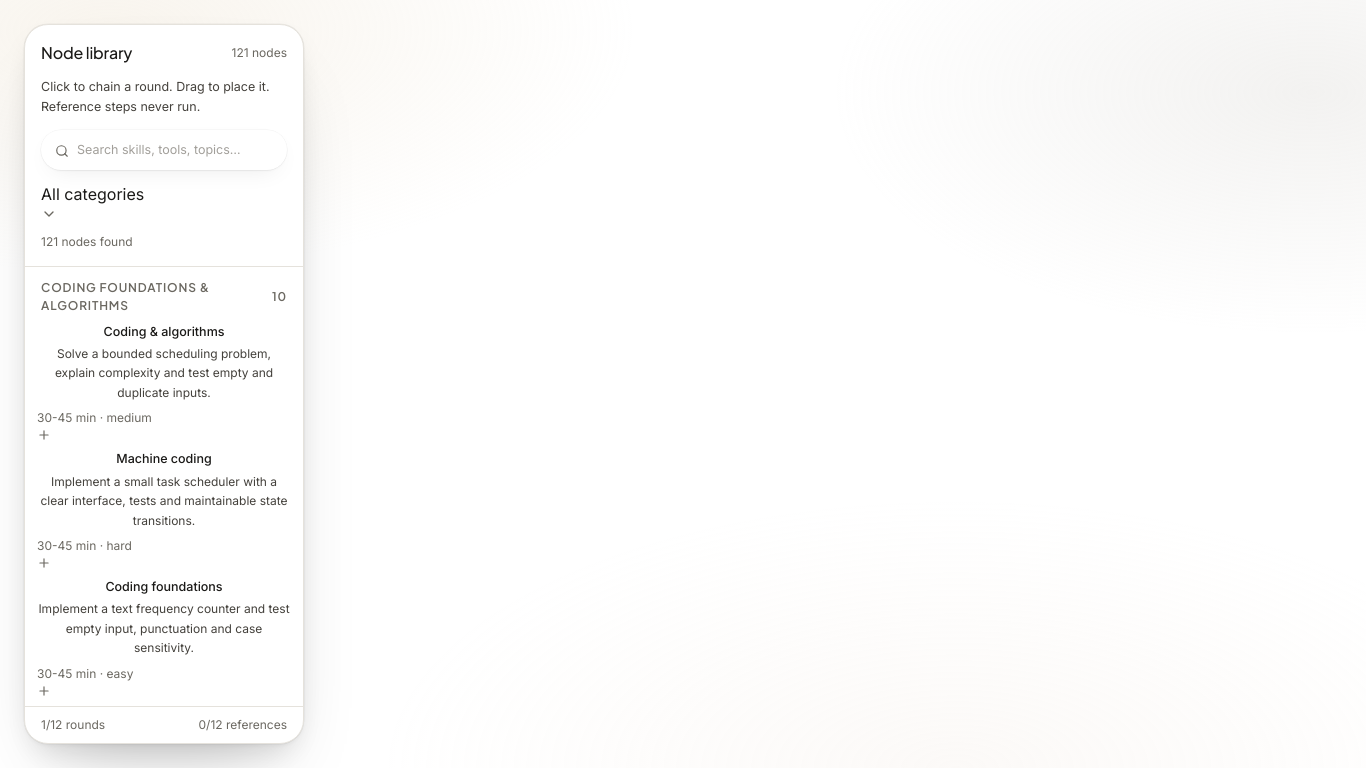
Test: NodePalette › filters with the themed category select and resets the no-match state
The width and height of the screenshot is (1366, 768).
Click the dropdown named "Node category" at (93, 202), box [41,182,144,222]
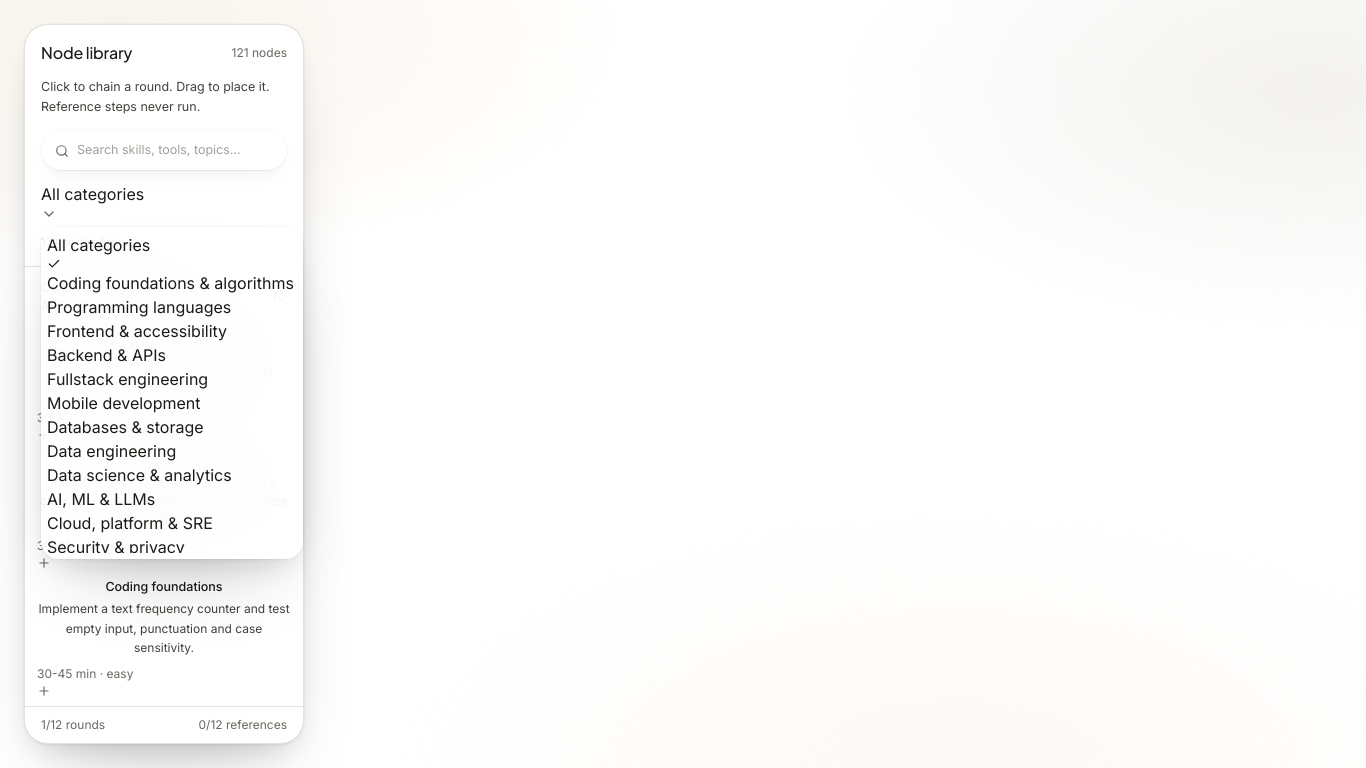
Click the option "Coding foundations & algorithms" at (172, 283), box [47,271,296,295]
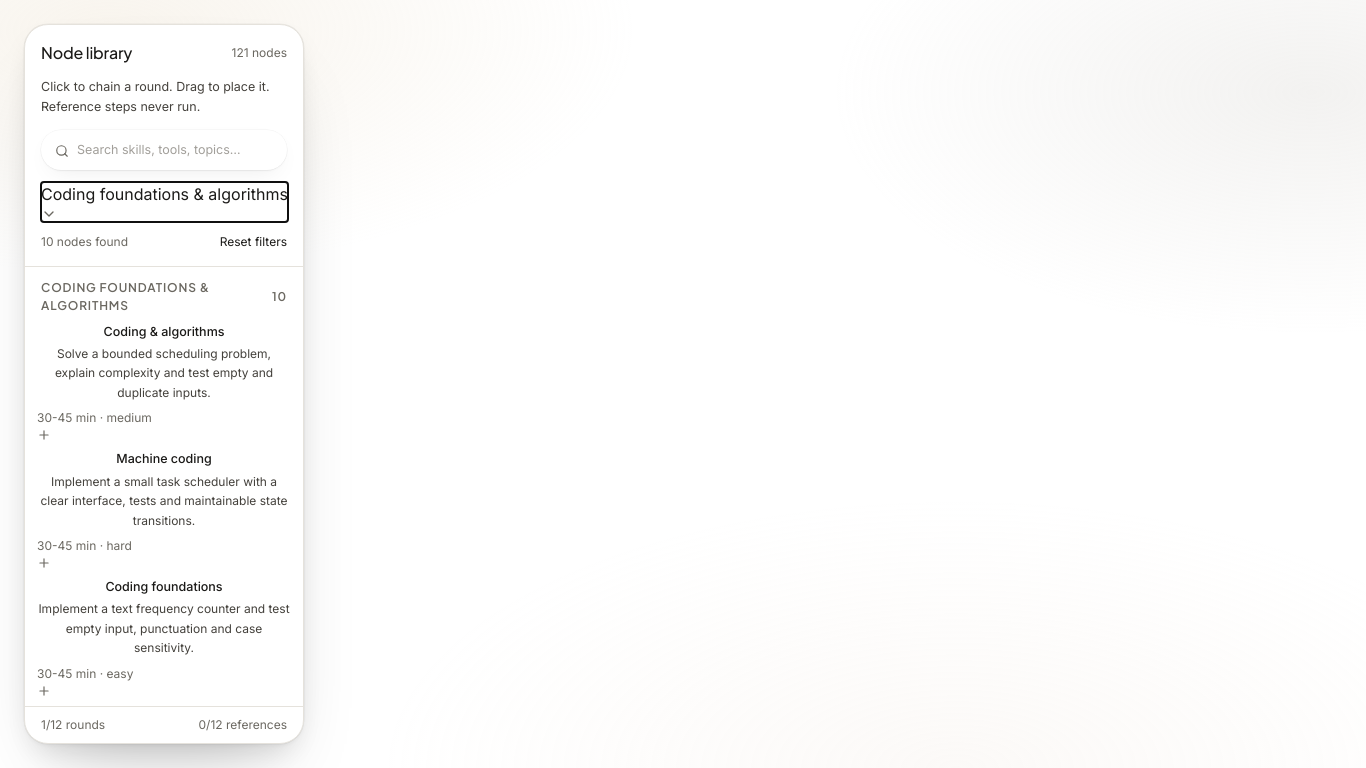
Type "no-node-with-this-name-xyz" into the field named "Search nodes" at (164, 150), box [41,130,287,170]
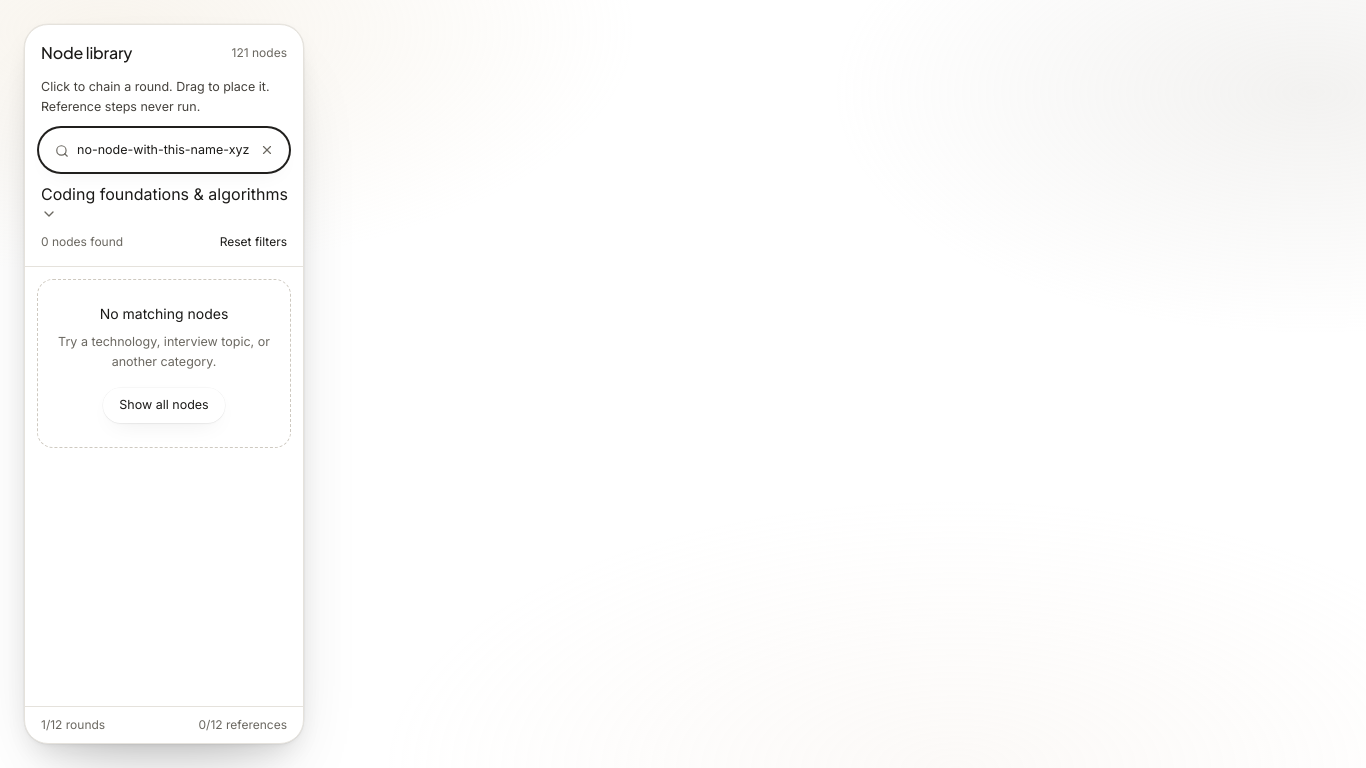
Result: the text "No matching nodes" is shown at [100,305,228,322]
Result: the message reads "0 nodes found" at [41,234,123,250]
Click the button "Show all nodes" at (164, 406), box [103,388,225,423]
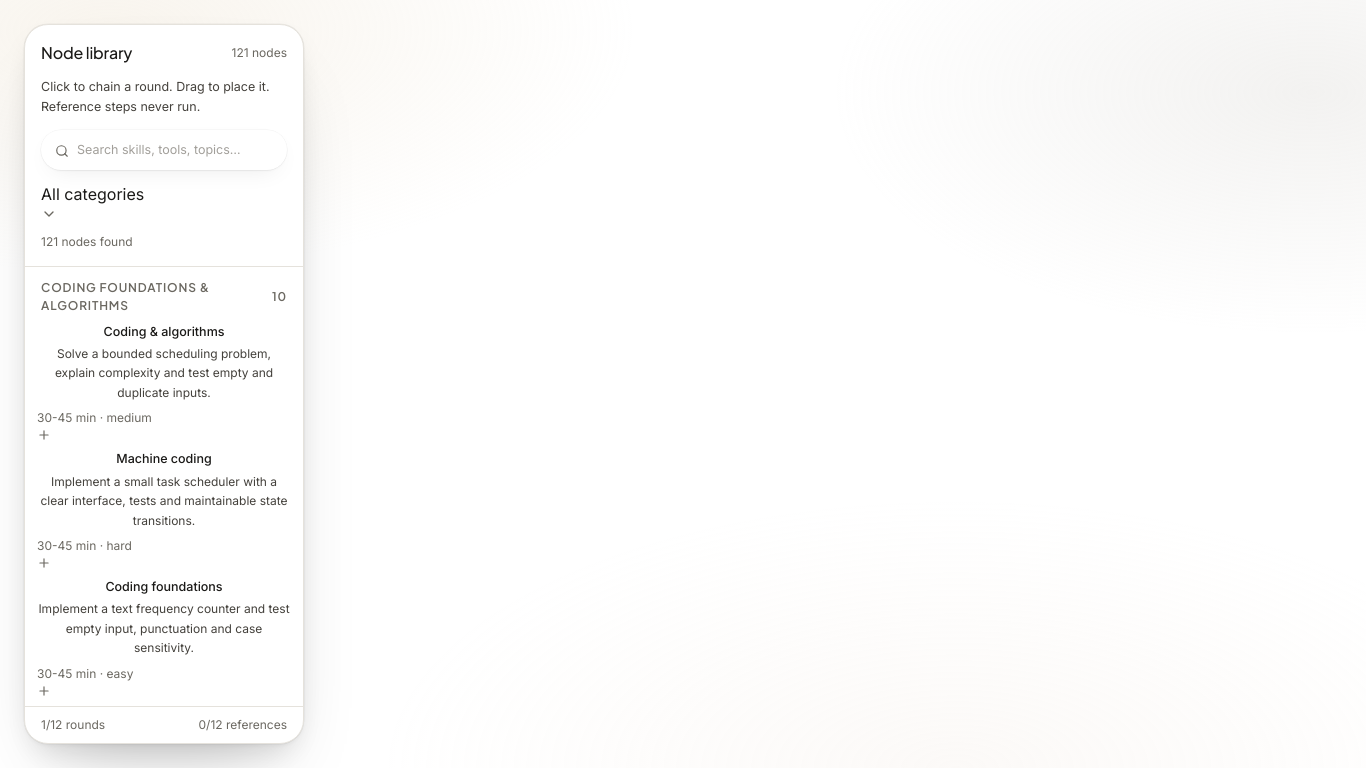
Result: the dropdown named "Node category" reads "All categories" at [41,182,144,222]
Result: the field named "Search nodes" is empty at [41,130,287,170]
Result: the number of buttons named "Add " is 121
